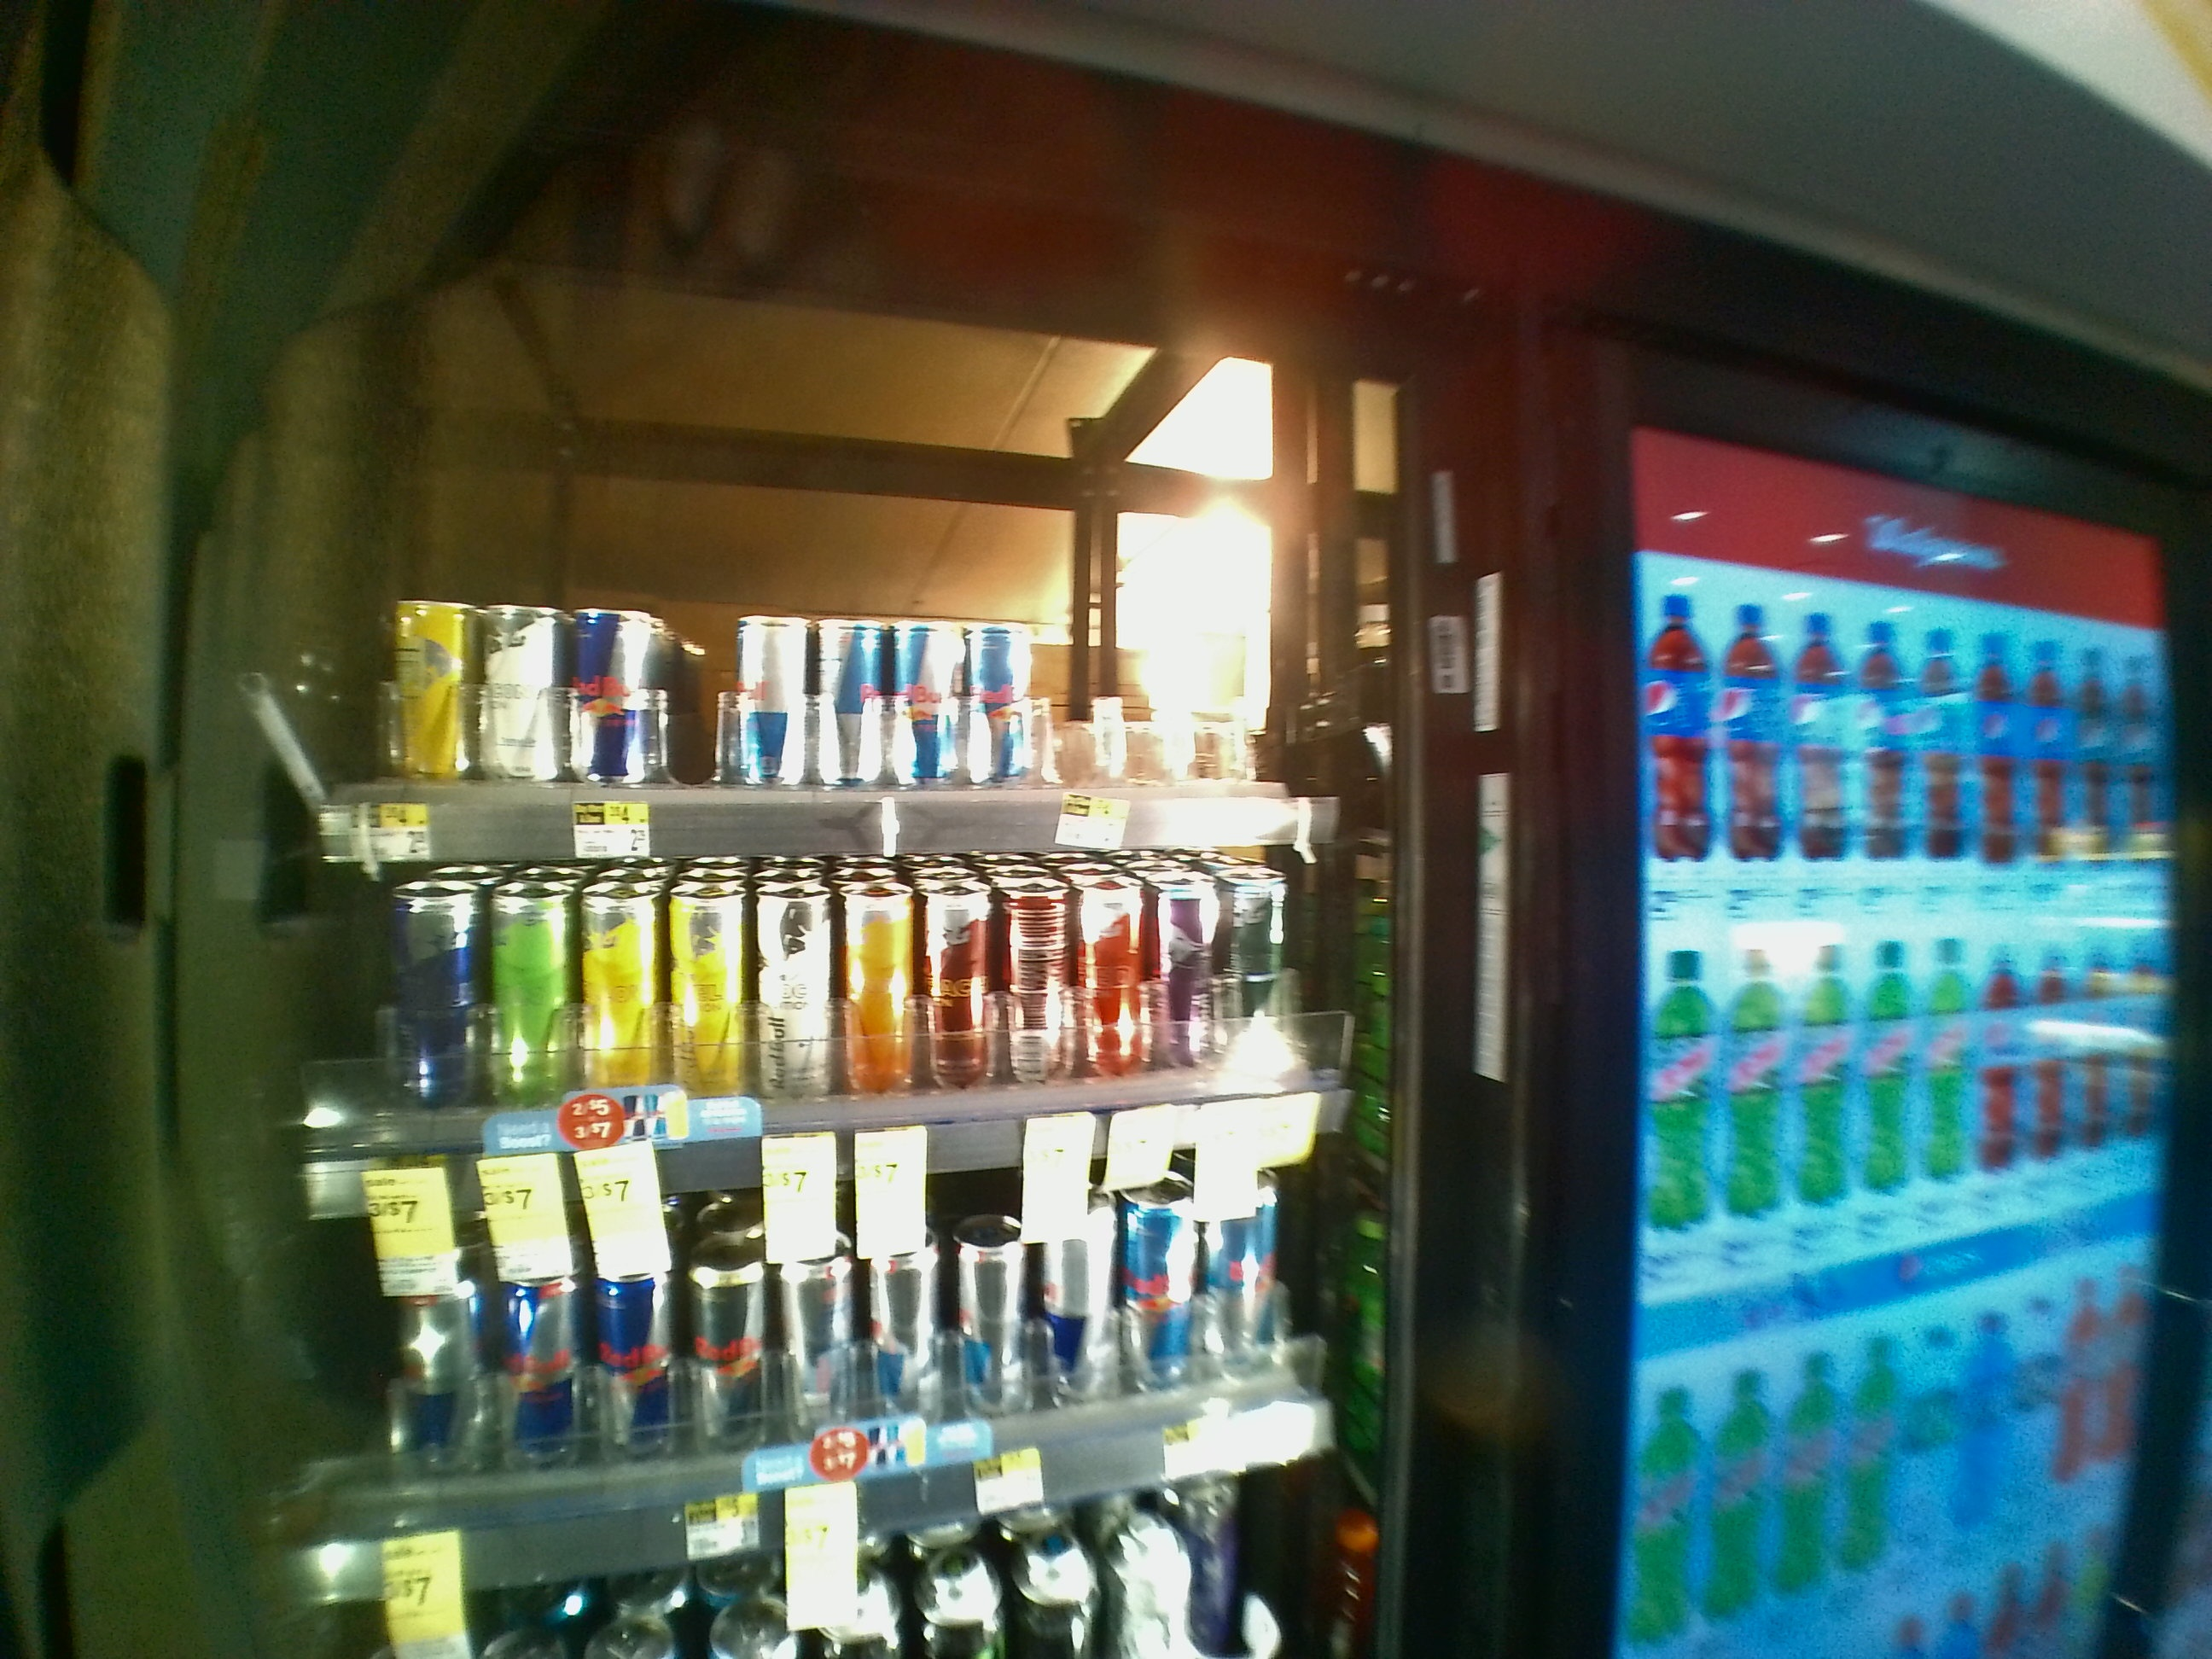shelf: (331, 284, 1404, 852)
